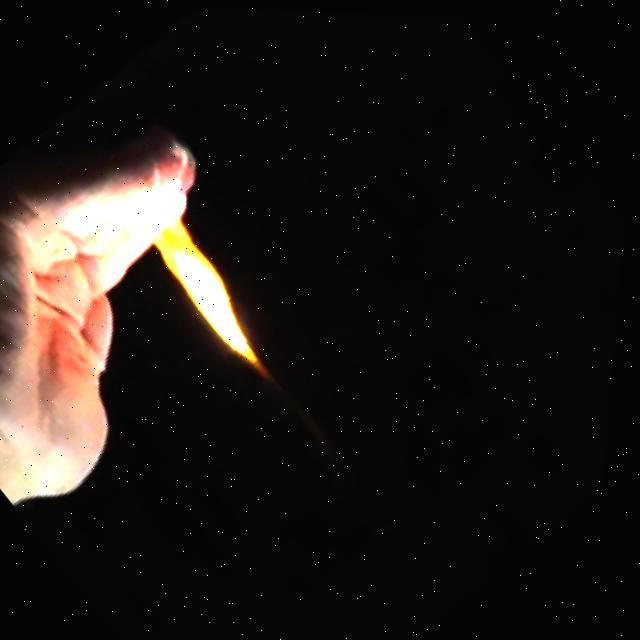Fire: (100, 169, 313, 387)
